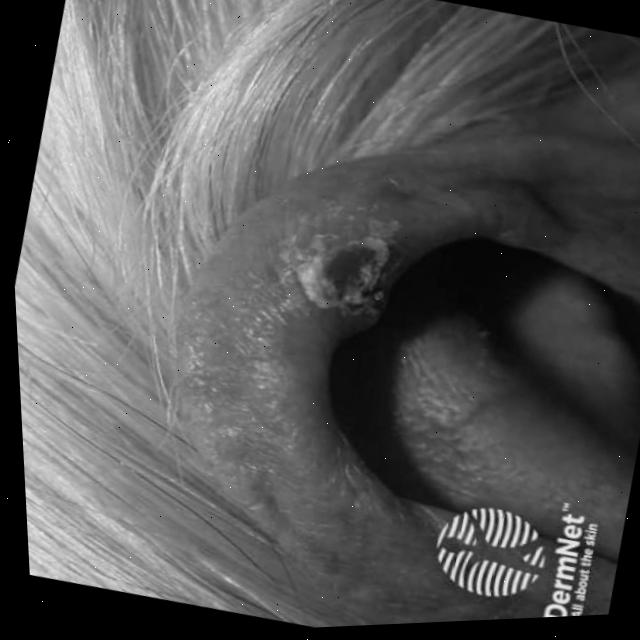Eczema: (184, 157, 450, 497)
